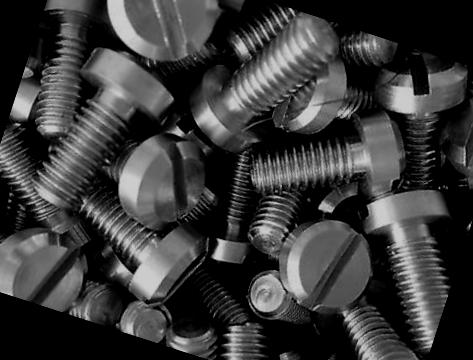screw: (268, 209, 384, 326), (94, 0, 226, 72)
